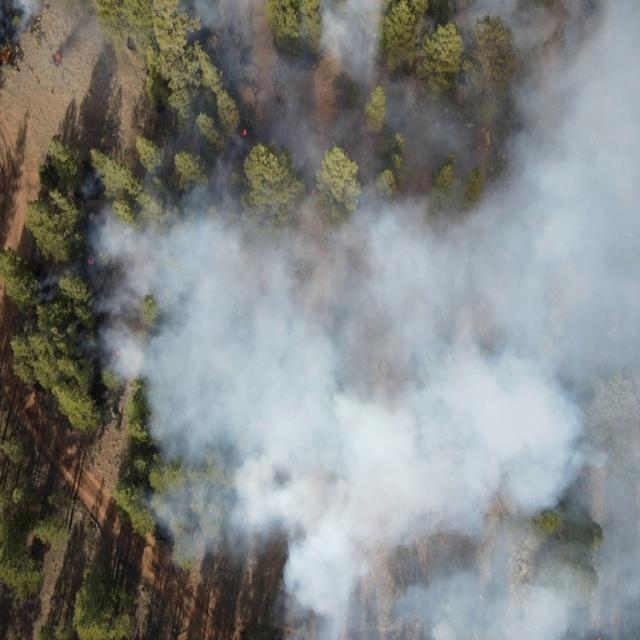fire: (286, 557, 640, 640), (0, 39, 16, 66), (238, 122, 252, 144), (111, 344, 124, 361), (51, 48, 62, 68), (83, 255, 100, 266)
smoke: (179, 95, 640, 551), (6, 0, 640, 94), (182, 0, 640, 98), (85, 173, 179, 455), (143, 461, 175, 544)
